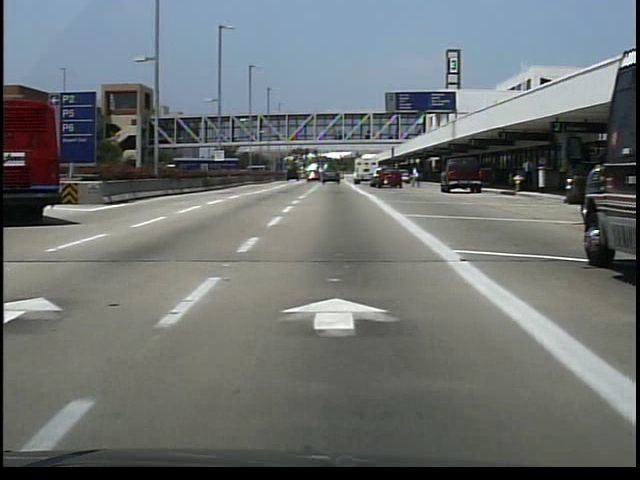person: (519, 156, 538, 199), (410, 168, 424, 190)
